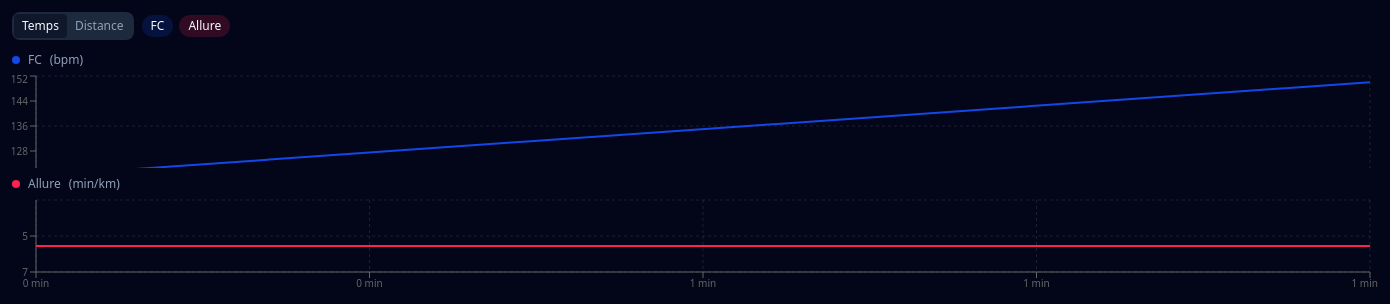
Scenario: ActivitySamplesChart › hides a metric panel when its chip is toggled off
Click the button "FC". click: (158, 26)
box: [142,15,173,37]
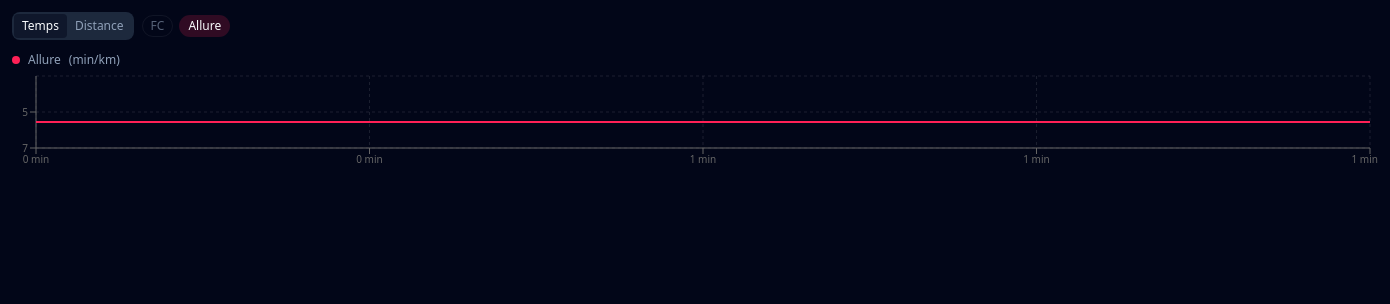
Now the text "bpm" is gone
